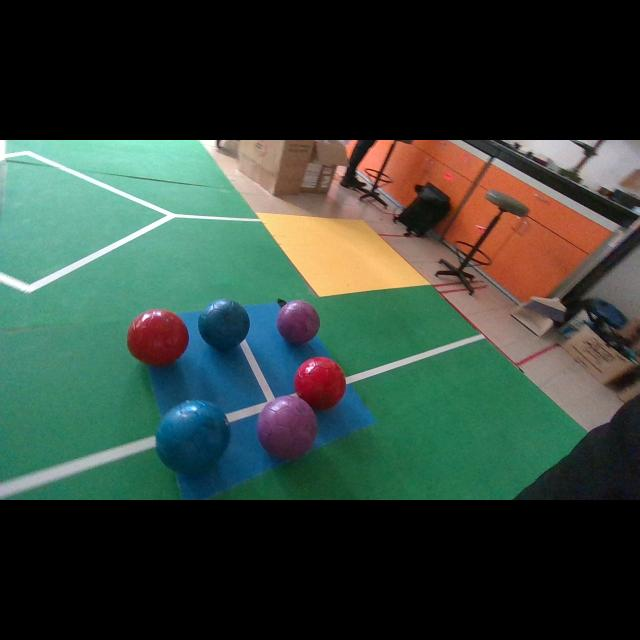B: (156, 400, 230, 473), (199, 299, 250, 350)
P: (258, 395, 318, 460), (276, 300, 320, 345)
R: (129, 310, 189, 364), (294, 358, 345, 410)
